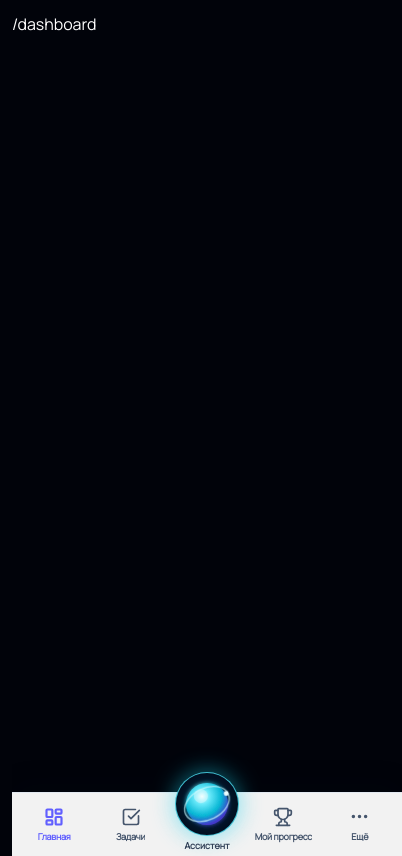
Test: BottomNav › keeps progress, analytics and settings reachable
Later steps or results of the test are not shown.
Click the link "Мой прогресс". click: (283, 824)
box: left=255, top=806, right=312, bottom=842
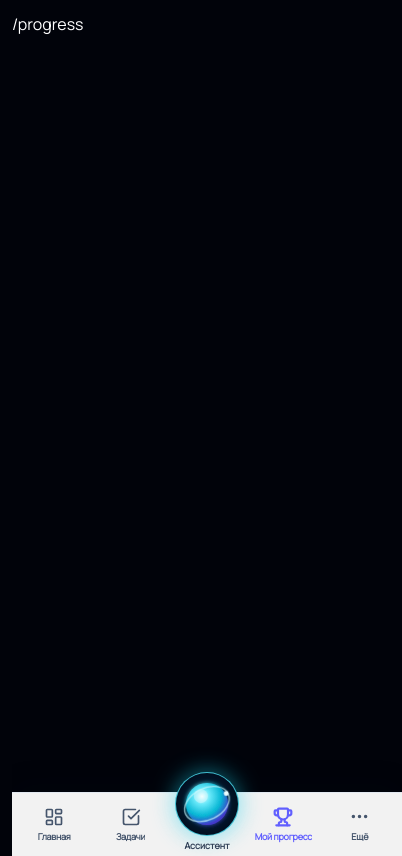
Expected: the text named "Текущий маршрут" reads "/progress", left=12, top=13, right=84, bottom=35
